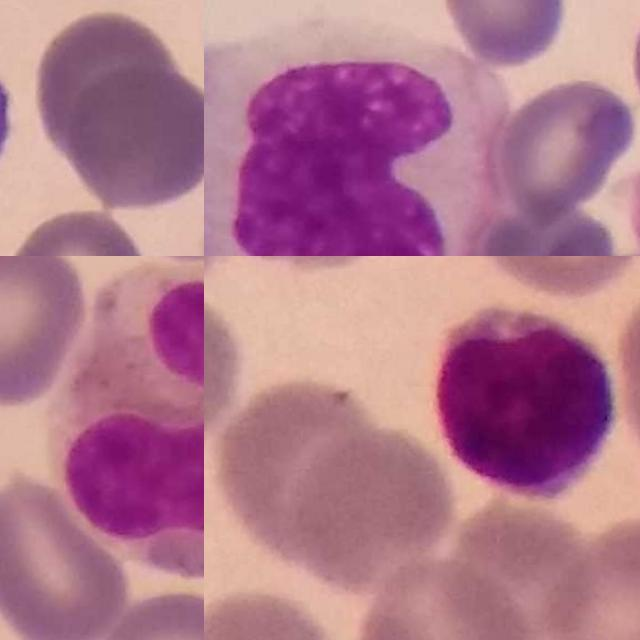Eosinophil: (54, 257, 204, 575)
Lymphocyte: (435, 305, 615, 505)
Monocyte: (204, 21, 506, 256)
